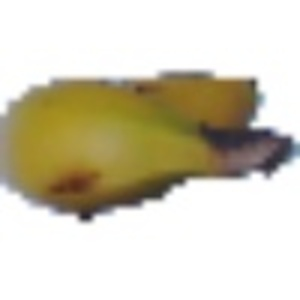banana: (1, 66, 294, 215)
